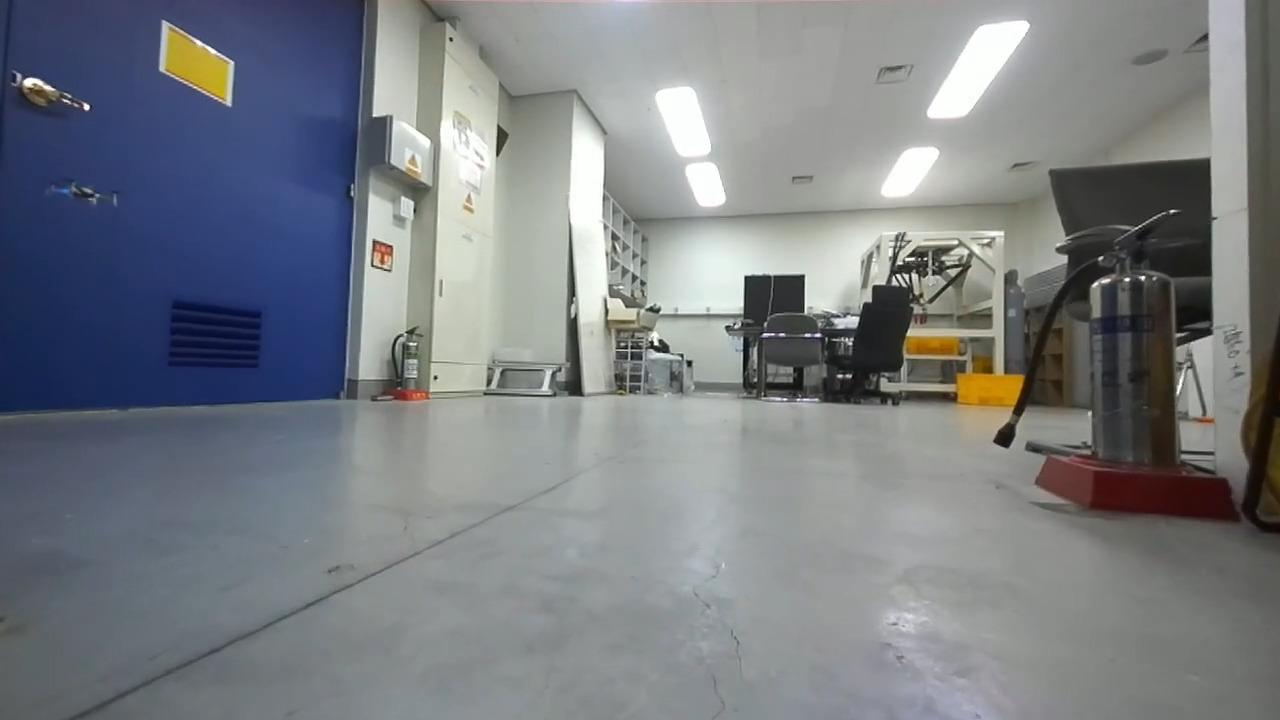crazyflie: (43, 176, 120, 212)
